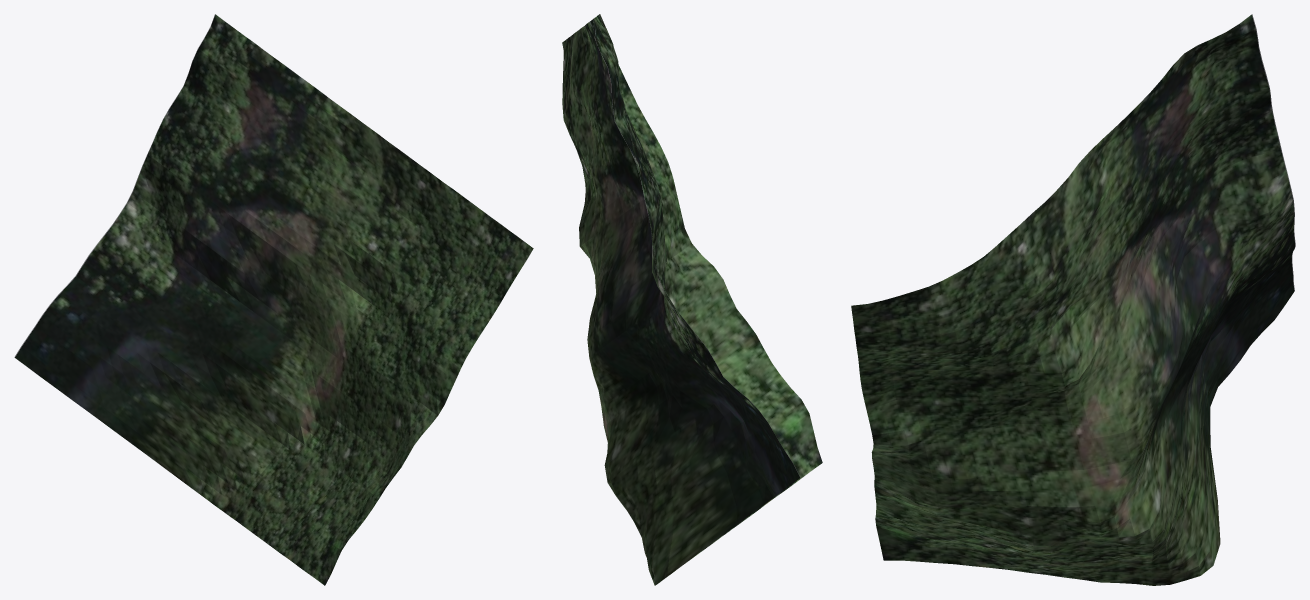
The picture shows the model from 3 angles, left to right: view 1: azimuth 30°, elevation 25°; view 2: azimuth 150°, elevation 25°; view 3: azimuth 270°, elevation 25°; orthographic projection. The views are drawn at different scales.
Size of the model in its own units: 563 by 737 by 506.
Materials: 1 (1 with a texture image).
